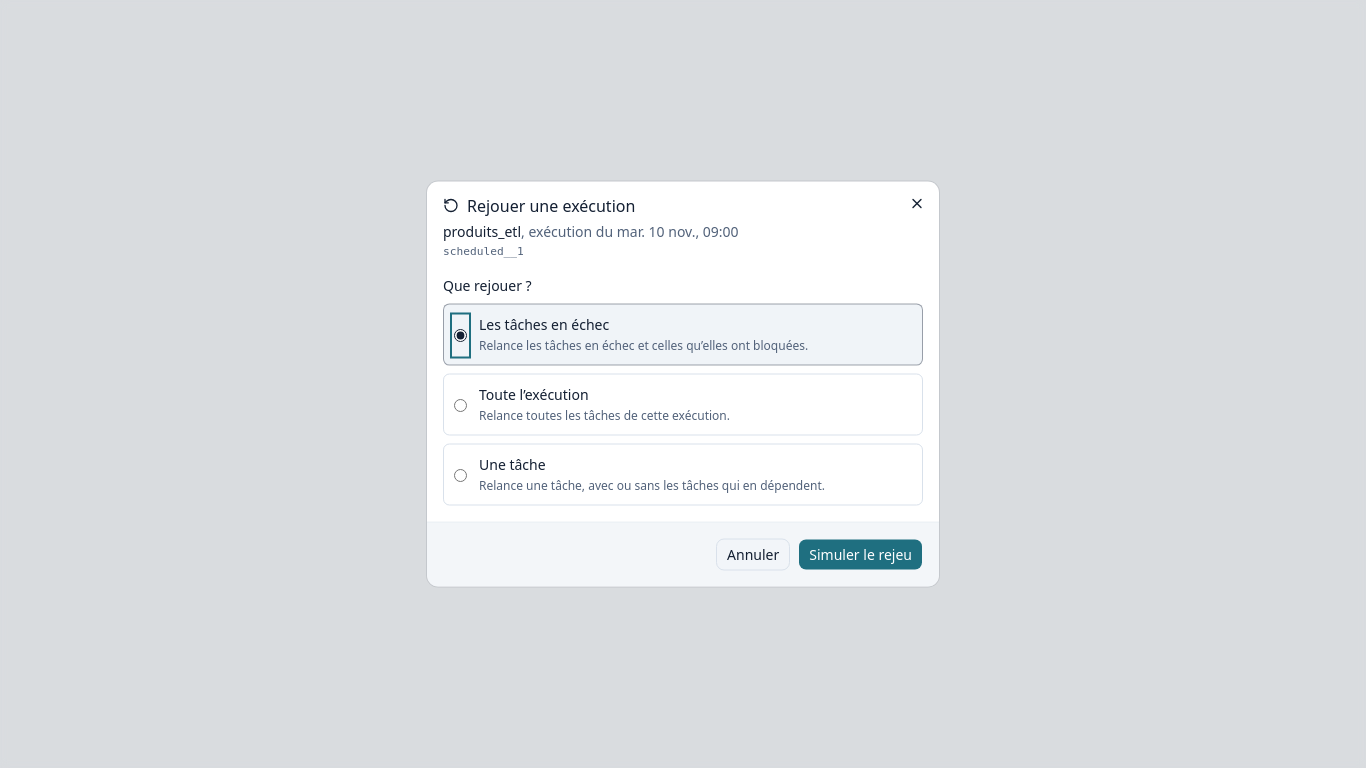
fenêtre de rejeu › affiche le refus du serveur sans rien lancer
Click the button "Simuler le rejeu".
click(861, 554)  # box x1=798 y1=538 x2=923 y2=570
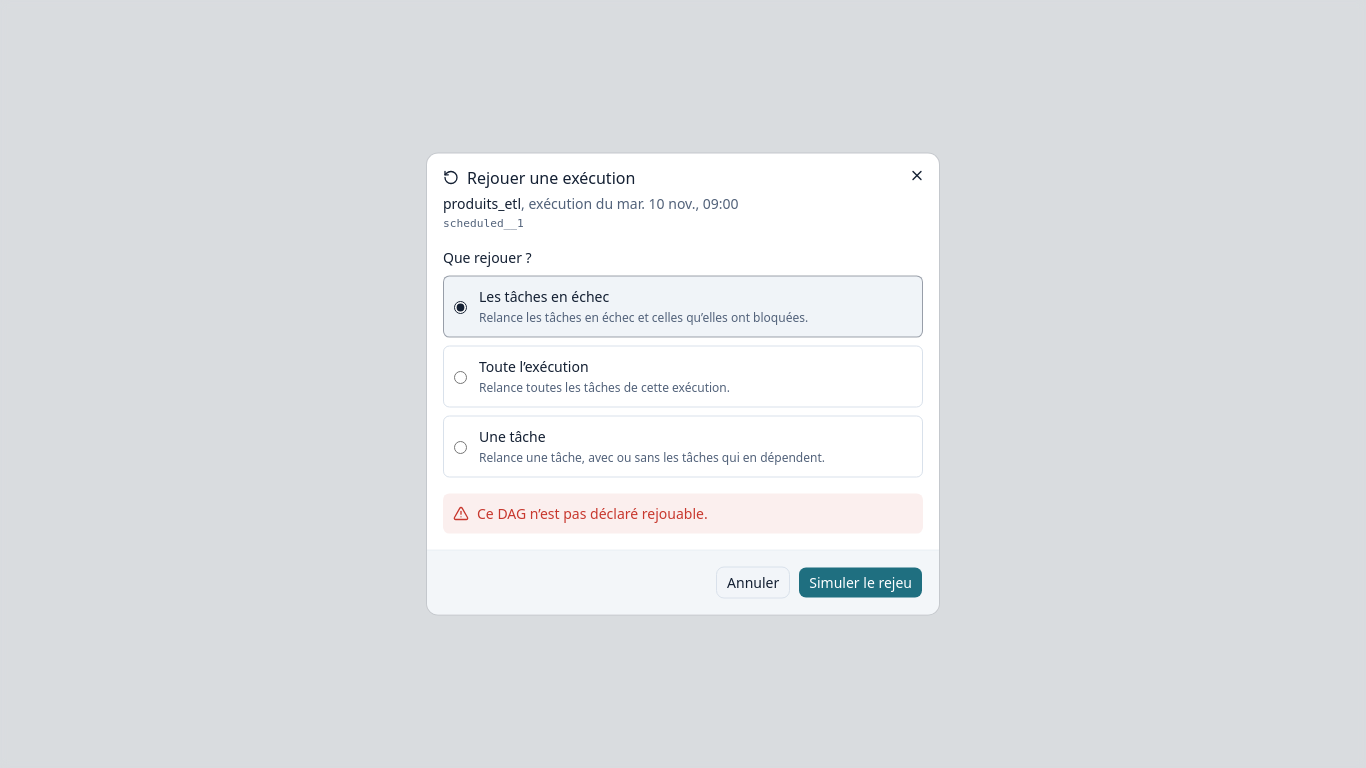
Result: the message shows "pas déclaré rejouable" at x1=477 y1=504 x2=708 y2=522
